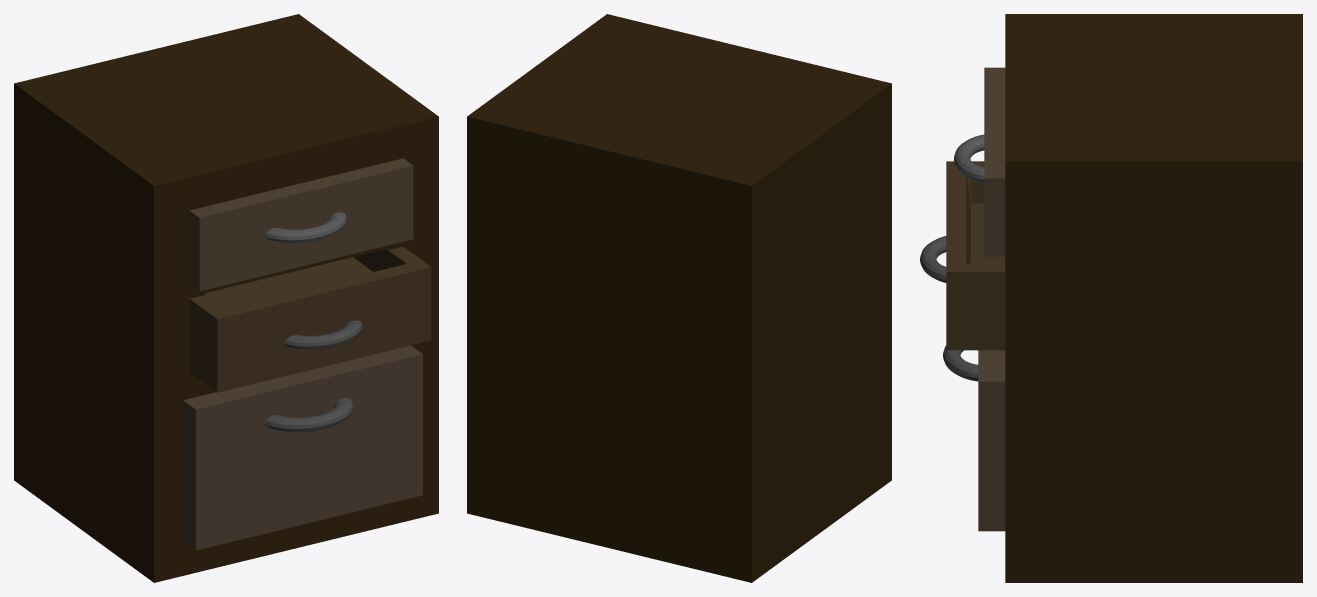
Rendered from Computer_mouseDrawer01 (1) 1.fbx.
The picture shows the model from 3 angles, left to right: view 1: azimuth 30°, elevation 25°; view 2: azimuth 150°, elevation 25°; view 3: azimuth 270°, elevation 25°; orthographic projection. The views are drawn at different scales.
Visible parts, largest first — view 1: Cube, Torus.003, Cube.002, Cube.003, Torus, Torus.001; view 2: Cube; view 3: Cube, Cube.002, Torus.003, Cube.003, Torus, Torus.001.
Boxes of the visible parts, <box> form: Cube: <box>14,14,438,582</box>; Torus.003: <box>183,345,422,550</box>; Cube.002: <box>189,246,431,392</box>; Cube.003: <box>189,158,413,291</box>; Torus: <box>264,212,346,243</box>; Torus.001: <box>284,320,362,349</box>; Cube: <box>467,14,891,582</box>; Cube: <box>1005,14,1302,582</box>; Cube.002: <box>946,161,1005,350</box>; Torus.003: <box>943,345,1005,531</box>; Cube.003: <box>984,67,1005,256</box>; Torus: <box>954,134,984,183</box>; Torus.001: <box>920,236,946,282</box>.
Size of the model in its own units: 447 by 595 by 490.
